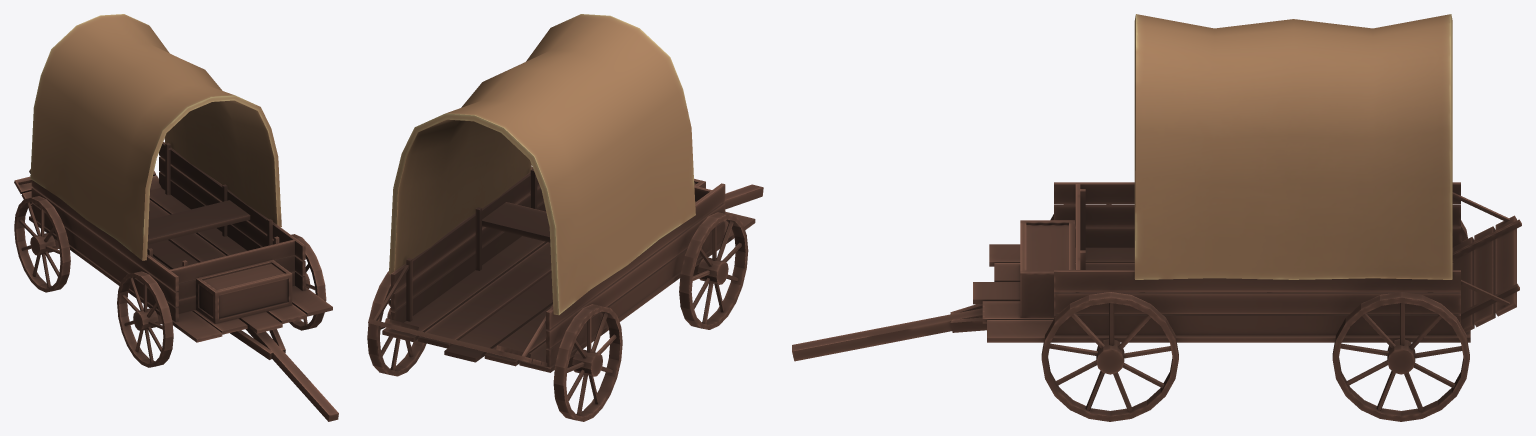
Rendered from Cart_1.FBX.
3 views of the same model, side by side, from view 1: azimuth 30°, elevation 25°; view 2: azimuth 150°, elevation 25°; view 3: azimuth 270°, elevation 25° (orthographic). The views are drawn at different scales.
Parts seen in each view (by area): view 1: Cart_1; view 2: Cart_1; view 3: Cart_1.
Boxes of the visible parts, bbox=[...] form: Cart_1: bbox=[14, 14, 338, 421]; Cart_1: bbox=[367, 14, 763, 421]; Cart_1: bbox=[792, 14, 1521, 421].
Bounding box in the file's own units: 60.08 × 82.88 × 161.
